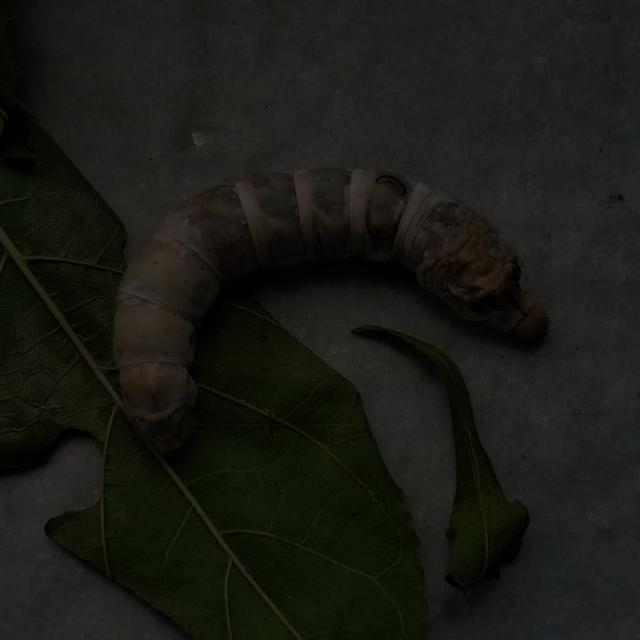Grasserie: (102, 139, 557, 463)
